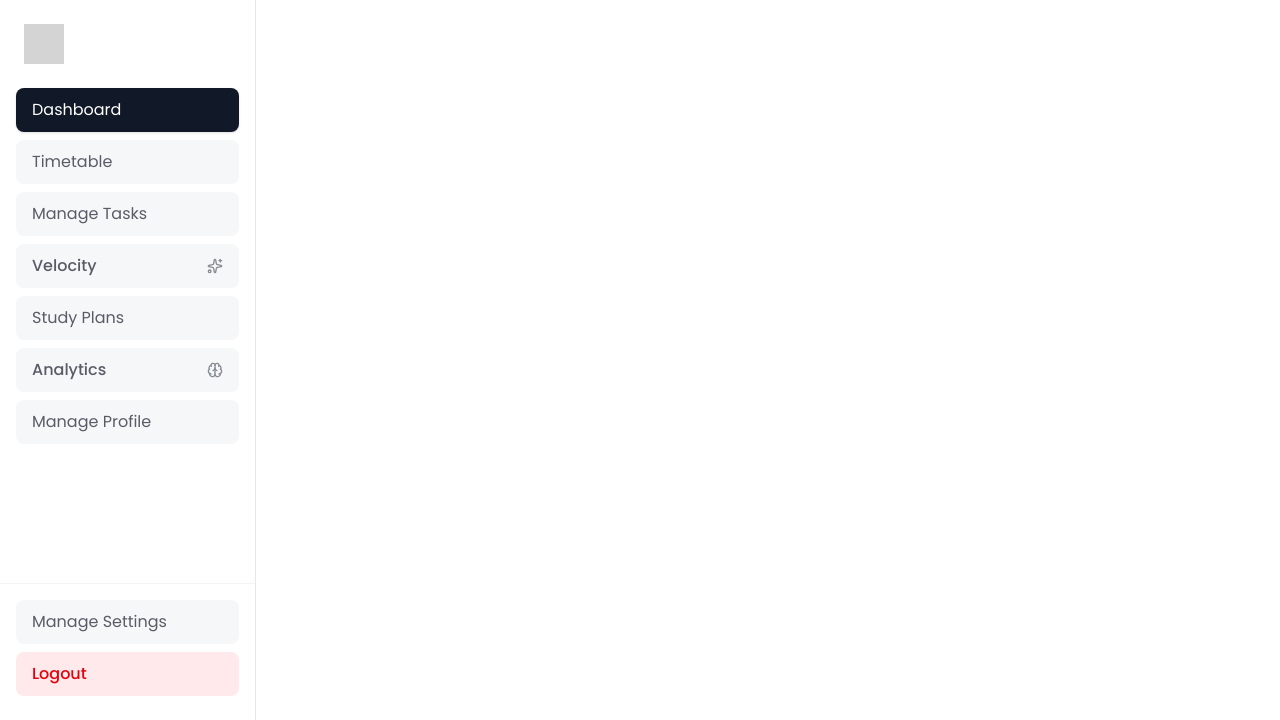
Test: Sidebar Component › closes the modal when Cancel is clicked
// Open modal
Click the button "Logout": click(128, 674) [16,652,239,696]
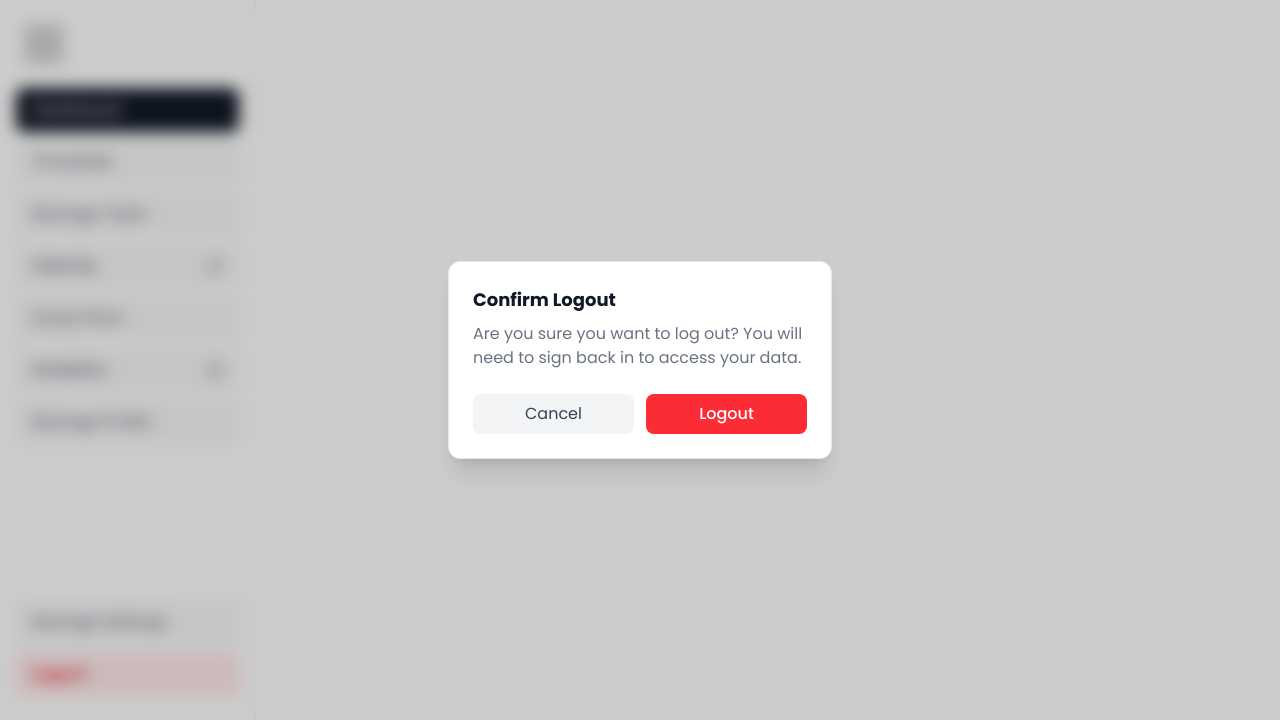
Check: the heading "Confirm Logout" is shown, box [473,287,616,312]
// Click cancel
Click the button "Cancel": click(554, 414) [473,394,634,434]
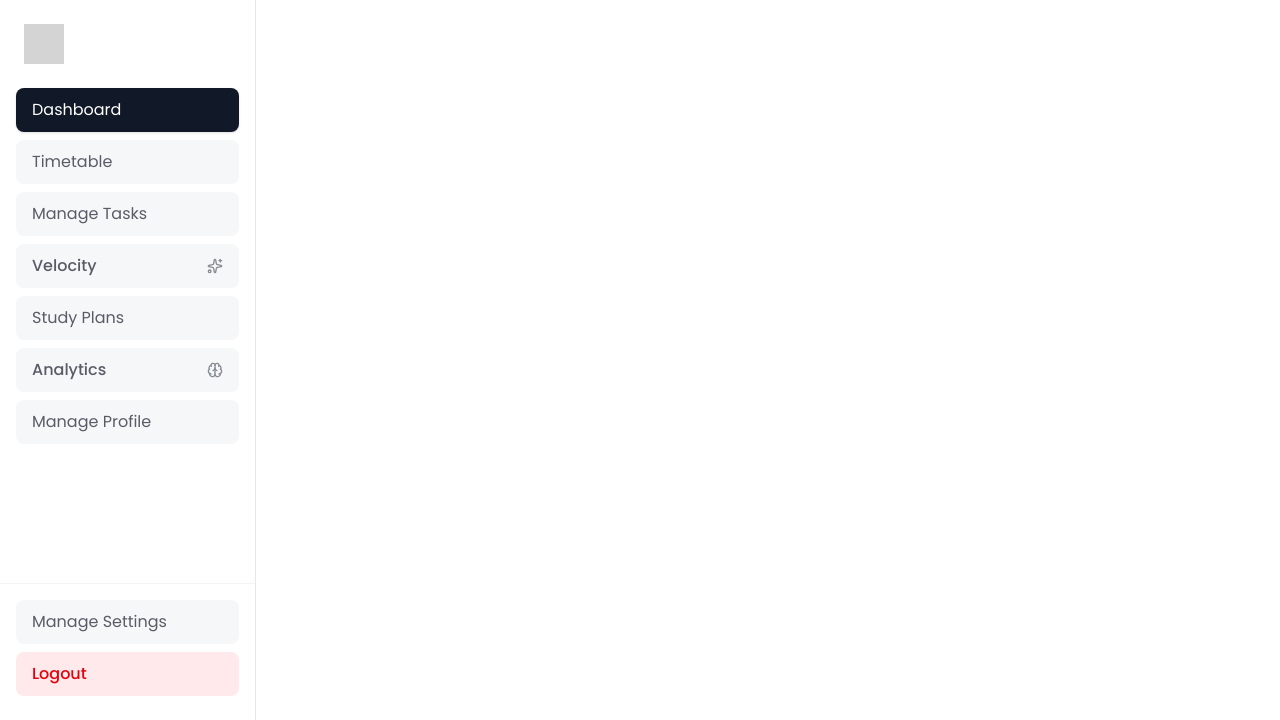
Check: the heading "Confirm Logout" is gone
